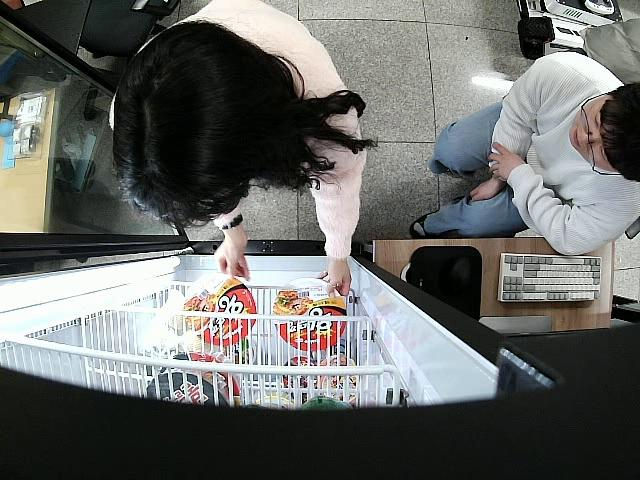00_hand: (212, 235, 252, 281), (485, 141, 526, 181), (315, 256, 353, 299)
10_wangTtukkeong: (183, 272, 257, 345), (273, 277, 347, 350)
